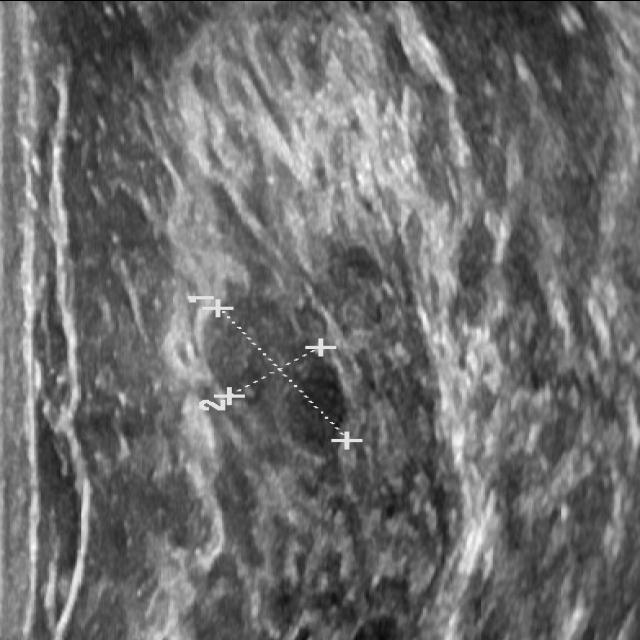Benign: (203, 324, 337, 434)
